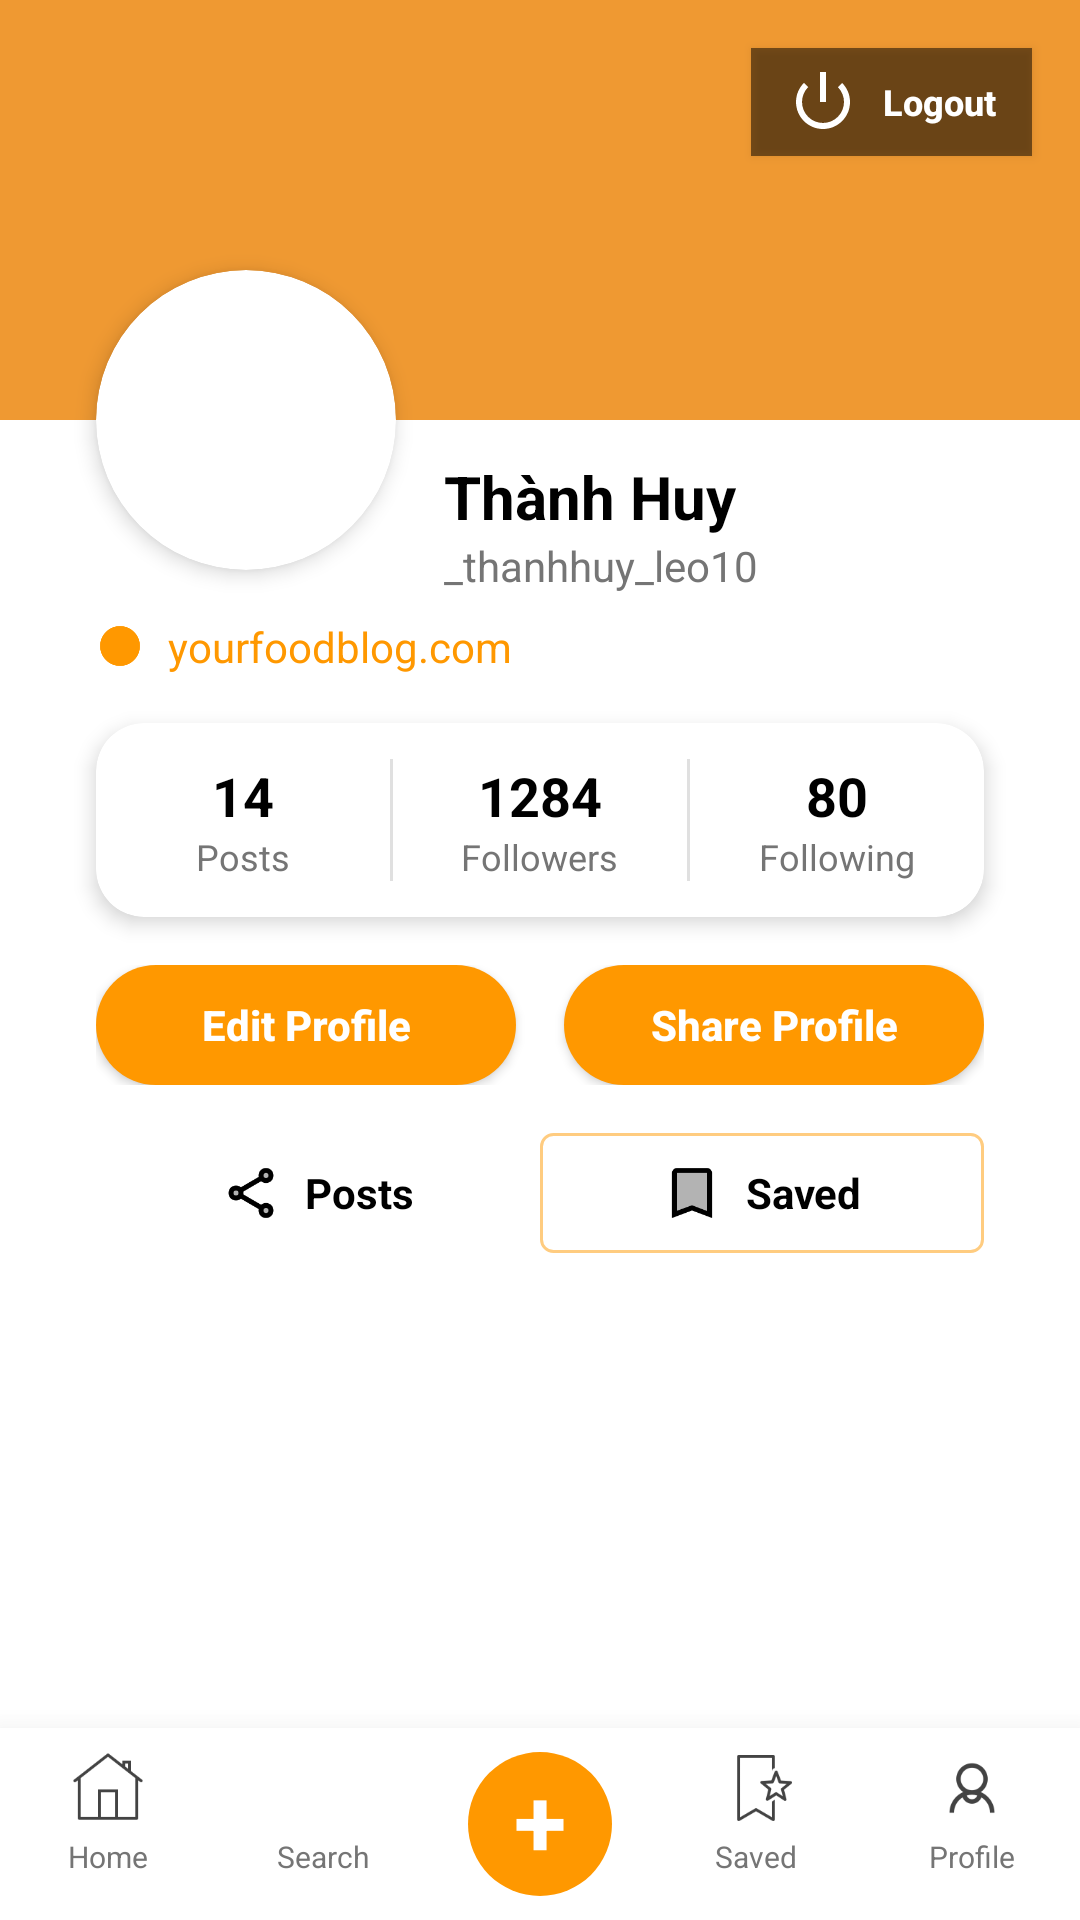

Screen size 1080w x 1920h. Icon name, then its box in pixels as (x1, y1, x2, y2):
share nodes: (228, 1168, 274, 1218)
